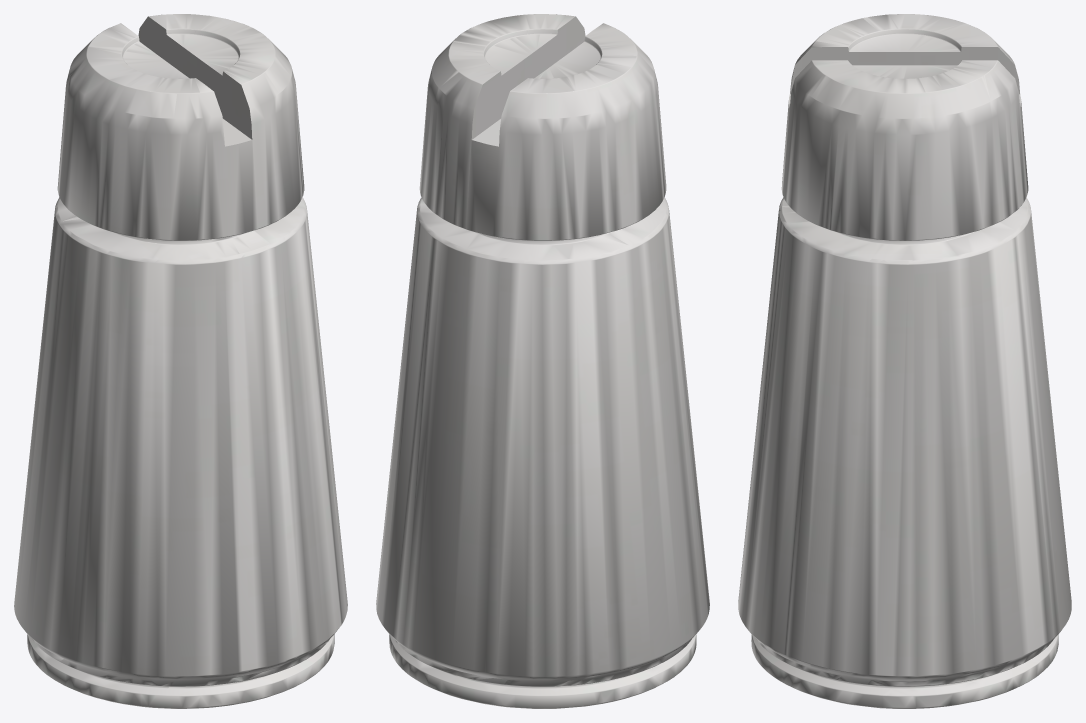
The model's file is rook-white.glb.
The picture shows the model from 3 angles, left to right: view 1: azimuth 30°, elevation 25°; view 2: azimuth 150°, elevation 25°; view 3: azimuth 270°, elevation 25°; orthographic projection.
Visible parts, largest first — view 1: 05_vez_bila; view 2: 05_vez_bila; view 3: 05_vez_bila.
Part boxes in pixels (bbox=[...]): 05_vez_bila: bbox=[14, 14, 347, 708]; 05_vez_bila: bbox=[376, 14, 709, 708]; 05_vez_bila: bbox=[738, 14, 1071, 708].
Bounding box in the file's own units: 0.5928 × 1.16 × 0.5924.
Materials: 1 (1 with a texture image).
